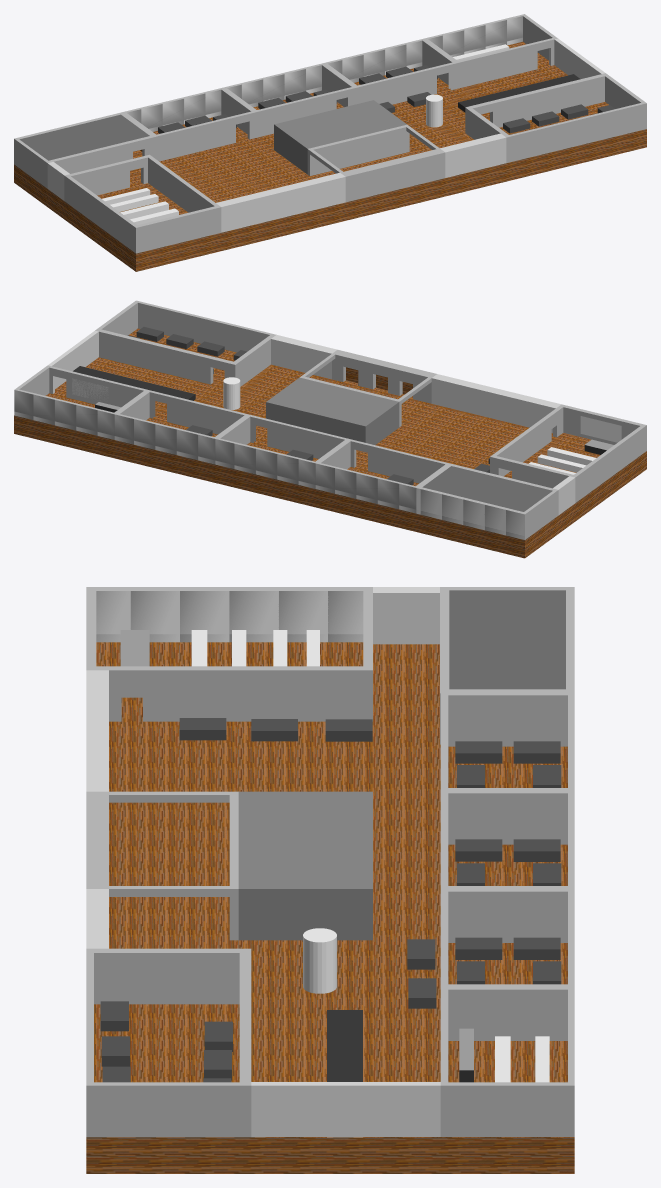
Rendered from mipiso.glb.
The picture shows the model from 3 angles, top to bottom: view 1: azimuth 30°, elevation 25°; view 2: azimuth 150°, elevation 25°; view 3: azimuth 270°, elevation 25°; orthographic projection. The views are drawn at different scales.
Parts seen in each view (by area): view 1: _(Loose Entity), _C-aula_wk_01 (Loose Mesh), _C-aula_stand_05 (Loose Mesh), C-sala_estar, C-aula_wk_02, _C-aula_stand_01 (Loose Mesh), _C-aula_stand_03 (Loose Mesh), _C-aula_stand_02 (Loose Mesh), C-mesas; view 2: _(Loose Entity), C-sala_estar, _C-aula_stand_05 (Loose Mesh), _C-aula_wk_01 (Loose Mesh), _C-aula_stand_03 (Loose Mesh), _C-aula_stand_02 (Loose Mesh), _C-aula_stand_01 (Loose Mesh), C-aula_wk_02, C-mesas; view 3: _(Loose Entity), _C-aula_wk_01 (Loose Mesh), _C-aula_stand_05 (Loose Mesh), C-aula_wk_02, C-sala_estar, _C-aula_stand_03 (Loose Mesh), _C-aula_stand_01 (Loose Mesh), _C-aula_stand_02 (Loose Mesh), C-mesas, C-mesas#1, C-escritorio, C-Mesa.022 (+15 smaller).
Part boxes in pixels (x1,y1,x2,y2): _(Loose Entity): (14, 38, 646, 271); _C-aula_wk_01 (Loose Mesh): (64, 154, 221, 253); _C-aula_stand_05 (Loose Mesh): (465, 73, 646, 163); C-sala_estar: (14, 112, 156, 188); C-aula_wk_02: (424, 14, 557, 88); _C-aula_stand_01 (Loose Mesh): (123, 87, 256, 161); _C-aula_stand_03 (Loose Mesh): (324, 38, 457, 104); _C-aula_stand_02 (Loose Mesh): (223, 63, 357, 137); C-mesas: (102, 188, 178, 224); _(Loose Entity): (14, 303, 646, 558); C-sala_estar: (416, 463, 558, 539); _C-aula_stand_05 (Loose Mesh): (95, 300, 276, 384); _C-aula_wk_01 (Loose Mesh): (490, 404, 646, 502); _C-aula_stand_03 (Loose Mesh): (114, 390, 248, 464); _C-aula_stand_02 (Loose Mesh): (215, 414, 348, 488); _C-aula_stand_01 (Loose Mesh): (315, 439, 449, 513); C-aula_wk_02: (14, 365, 147, 439); C-mesas: (529, 447, 596, 474); _(Loose Entity): (86, 587, 574, 1173); _C-aula_wk_01 (Loose Mesh): (86, 587, 372, 721); _C-aula_stand_05 (Loose Mesh): (86, 948, 251, 1137); C-aula_wk_02: (440, 987, 574, 1136); C-sala_estar: (440, 587, 574, 744); _C-aula_stand_03 (Loose Mesh): (440, 889, 574, 987); _C-aula_stand_01 (Loose Mesh): (440, 693, 574, 791); _C-aula_stand_02 (Loose Mesh): (440, 791, 574, 889); C-mesas: (191, 630, 319, 666); C-mesas#1: (495, 1036, 549, 1082); C-escritorio: (120, 630, 149, 666); C-Mesa.022: (325, 719, 372, 741).
Bounding box in the file's own units: 72.84 × 6 × 30.14.
Materials: 11 (3 with a texture image).
